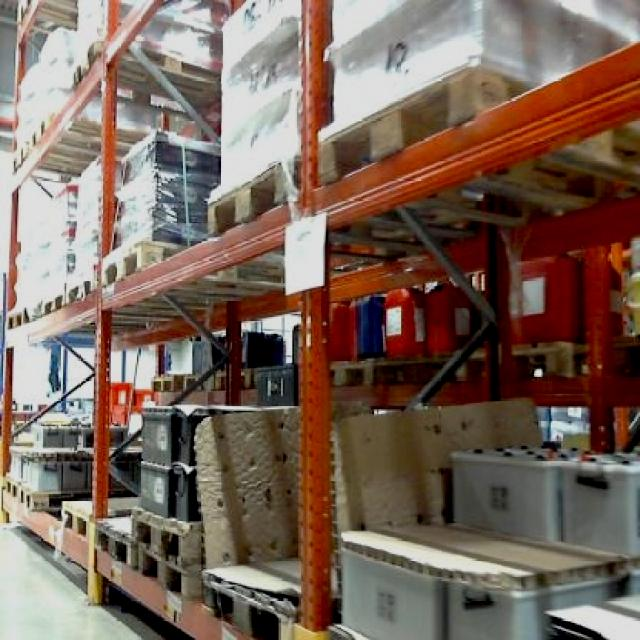pallets: (338, 525, 626, 637)
